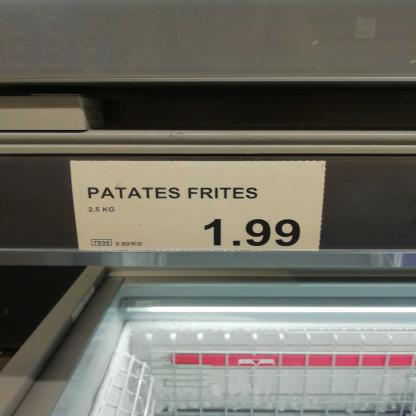prtg: (70, 160, 330, 254)
